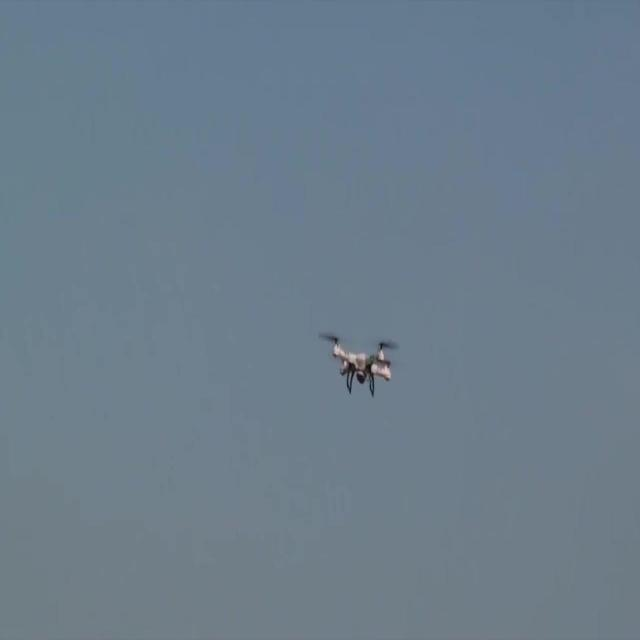UAV: (323, 332, 395, 398)
